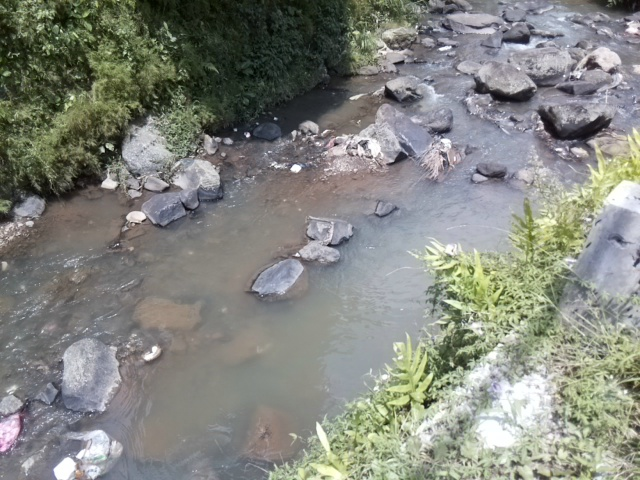Sampah_Plastik: (78, 426, 122, 478), (1, 413, 27, 453)
Sampah_Styrofoam: (48, 458, 76, 478), (290, 162, 302, 174)
